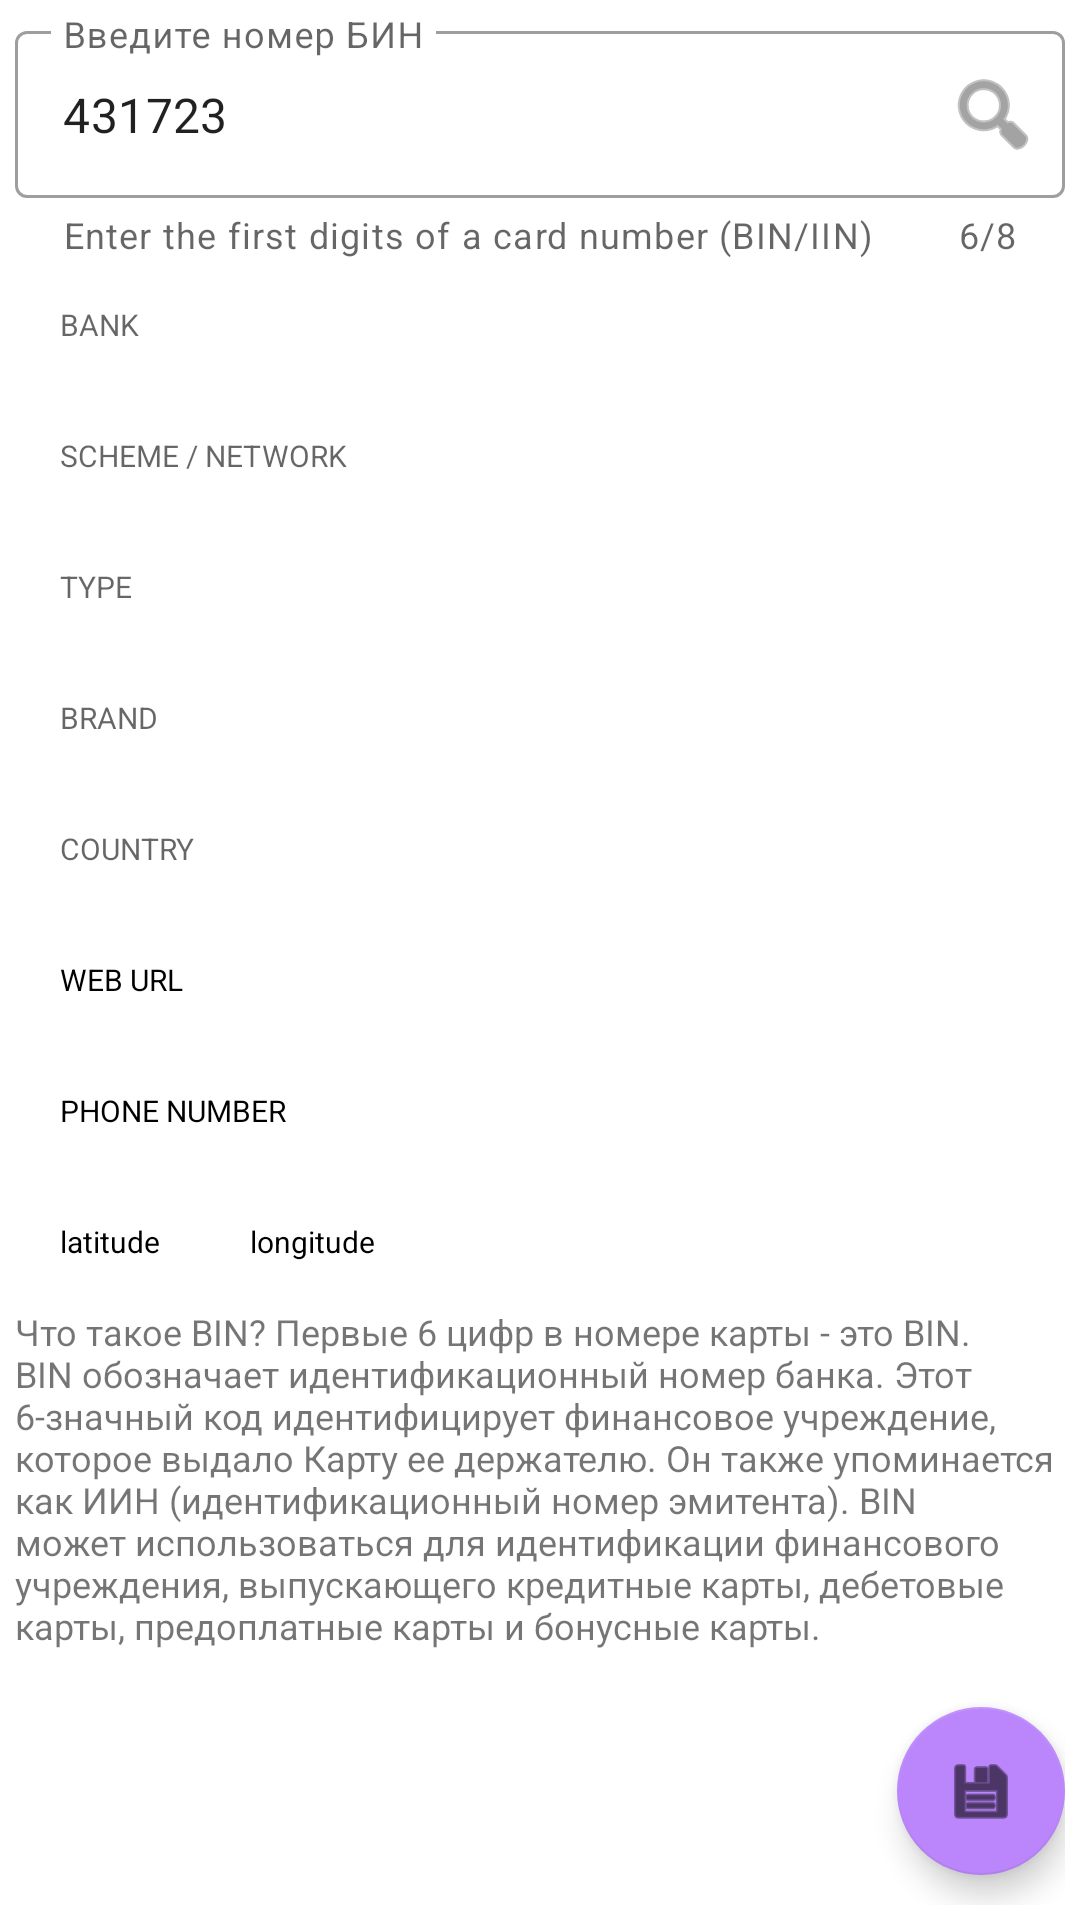

Icons on this 1080*1920 Android screen, each with the point to tap as (x,y):
save: (981,1791)
